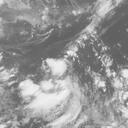cyclone: (37, 58, 78, 102)
